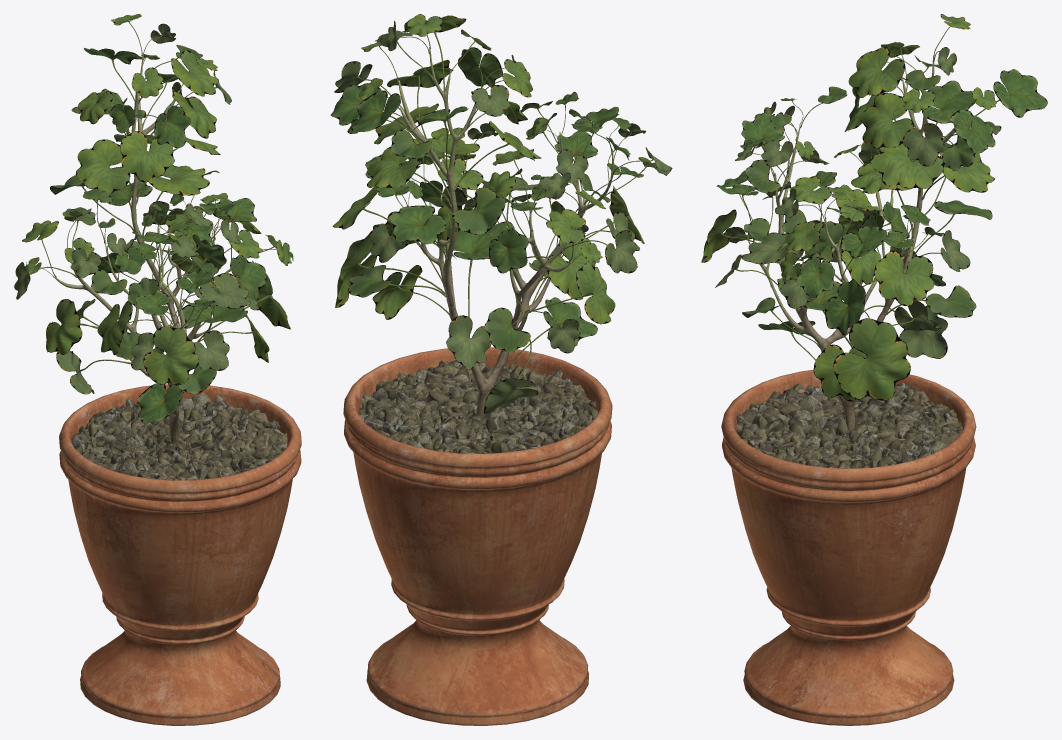
Rendered from potted_plant_01.glb.
The picture shows the model from 3 angles, left to right: view 1: azimuth 30°, elevation 25°; view 2: azimuth 150°, elevation 25°; view 3: azimuth 270°, elevation 25°; orthographic projection. The views are drawn at different scales.
Visible parts, largest first — view 1: potted_plant_01_pot, potted_plant_01_leaves, potted_plant_01_pebbles, potted_plant_01_stem; view 2: potted_plant_01_pot, potted_plant_01_leaves, potted_plant_01_pebbles, potted_plant_01_stem; view 3: potted_plant_01_pot, potted_plant_01_leaves, potted_plant_01_pebbles, potted_plant_01_stem.
Boxes of the visible parts, <box> form: potted_plant_01_pot: <box>59,384,301,725</box>; potted_plant_01_leaves: <box>14,14,293,423</box>; potted_plant_01_pebbles: <box>71,392,287,480</box>; potted_plant_01_stem: <box>54,54,244,443</box>; potted_plant_01_pot: <box>343,347,612,725</box>; potted_plant_01_leaves: <box>331,14,672,414</box>; potted_plant_01_pebbles: <box>359,360,597,453</box>; potted_plant_01_stem: <box>398,49,613,420</box>; potted_plant_01_pot: <box>721,369,976,725</box>; potted_plant_01_leaves: <box>701,14,1047,401</box>; potted_plant_01_pebbles: <box>736,382,962,468</box>; potted_plant_01_stem: <box>752,55,967,431</box>.
Bounding box in the file's own units: 0.5872 × 1.34 × 0.6336.
Materials: 2 (2 with a texture image).
